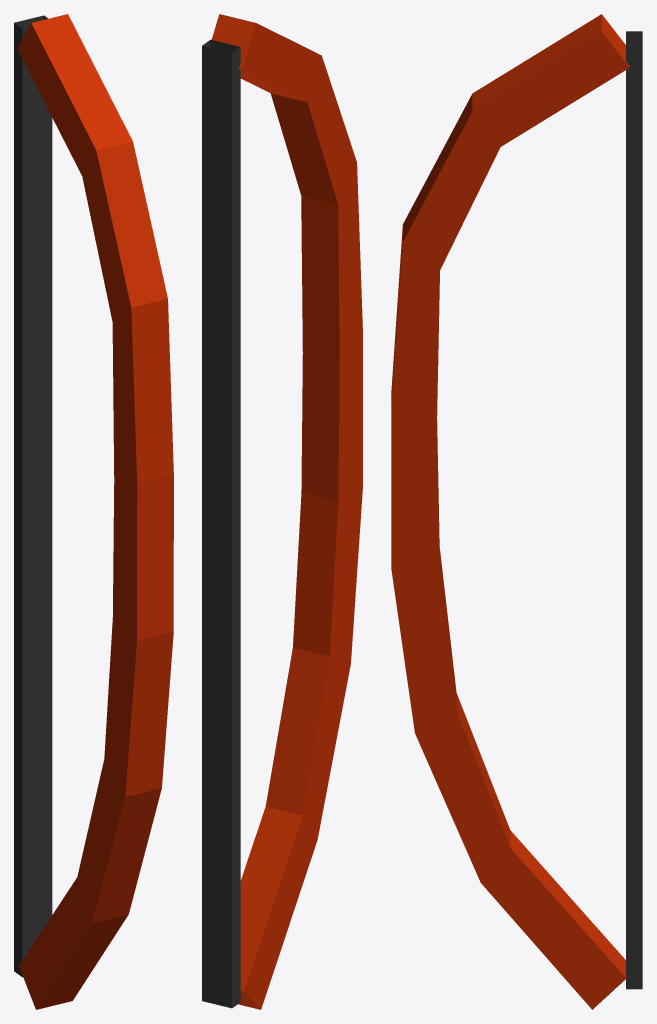
Rendered from bow.obj.
3 views of the same model, side by side, from view 1: azimuth 30°, elevation 25°; view 2: azimuth 150°, elevation 25°; view 3: azimuth 270°, elevation 25° (orthographic).
Visible parts, largest first — view 1: bow; view 2: bow; view 3: bow.
Part boxes in pixels (x1=…): bow: x1=14, y1=14, x2=173, y2=1009; bow: x1=202, y1=14, x2=362, y2=1009; bow: x1=391, y1=14, x2=642, y2=1009.
Size of the model in its own units: 0.0245 by 0.6286 by 0.1465.
